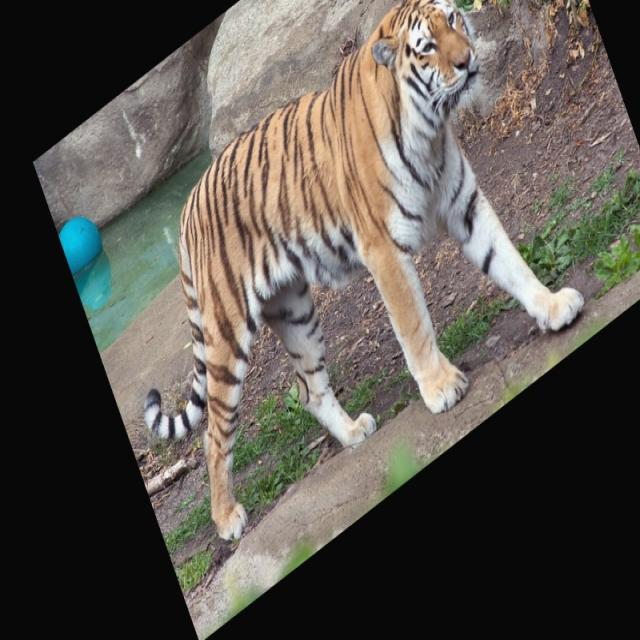Tiger: (143, 2, 582, 540)
